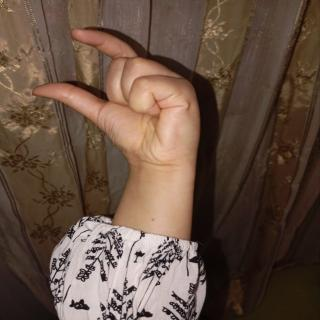DELL: (26, 22, 223, 176)
